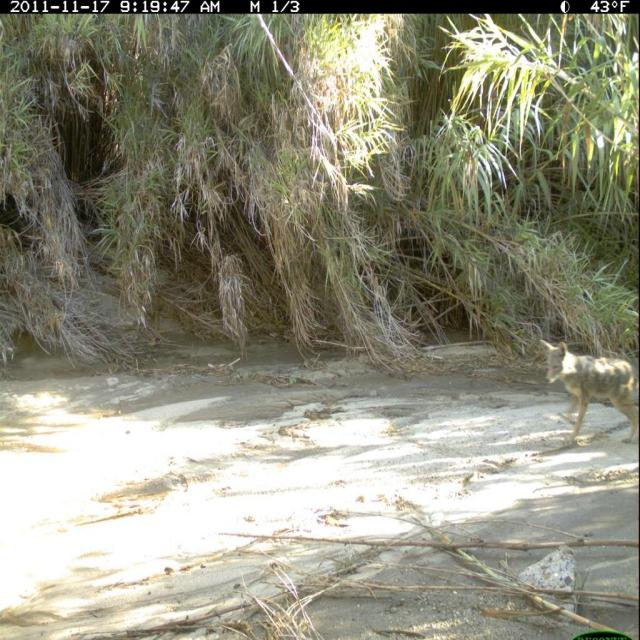coyote: (536, 333, 640, 449)
